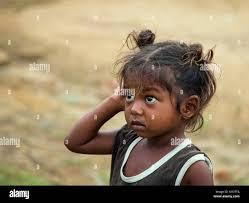Human: (62, 31, 225, 190)
